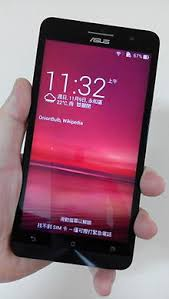asus: (8, 11, 162, 271)
